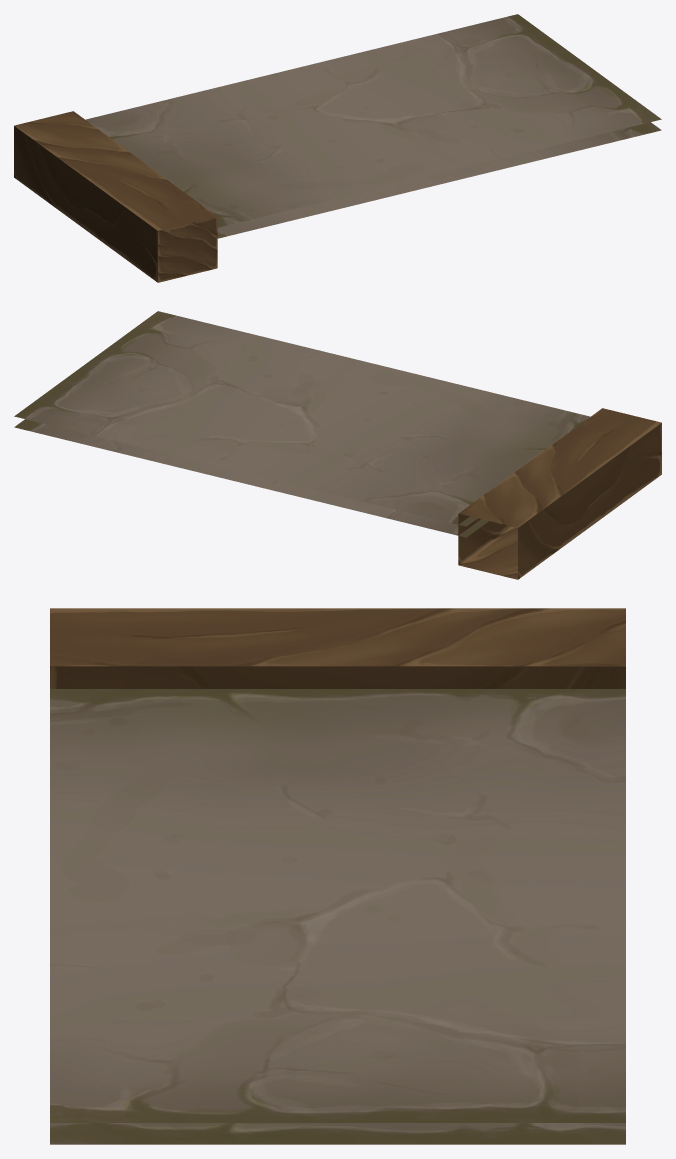
Rendered from Ceiling_1_4_half.FBX.
The picture shows the model from 3 angles, top to bottom: view 1: azimuth 30°, elevation 25°; view 2: azimuth 150°, elevation 25°; view 3: azimuth 270°, elevation 25°; orthographic projection. The views are drawn at different scales.
Parts seen in each view (by area): view 1: Ceiling_1_4_half; view 2: Ceiling_1_4_half; view 3: Ceiling_1_4_half.
Boxes of the visible parts, bbox=[...] form: Ceiling_1_4_half: bbox=[14, 14, 661, 282]; Ceiling_1_4_half: bbox=[14, 311, 661, 579]; Ceiling_1_4_half: bbox=[50, 608, 625, 1144].
Bounding box in the file's own units: 2032 × 200 × 1005.
Materials: 1 (1 with a texture image).
